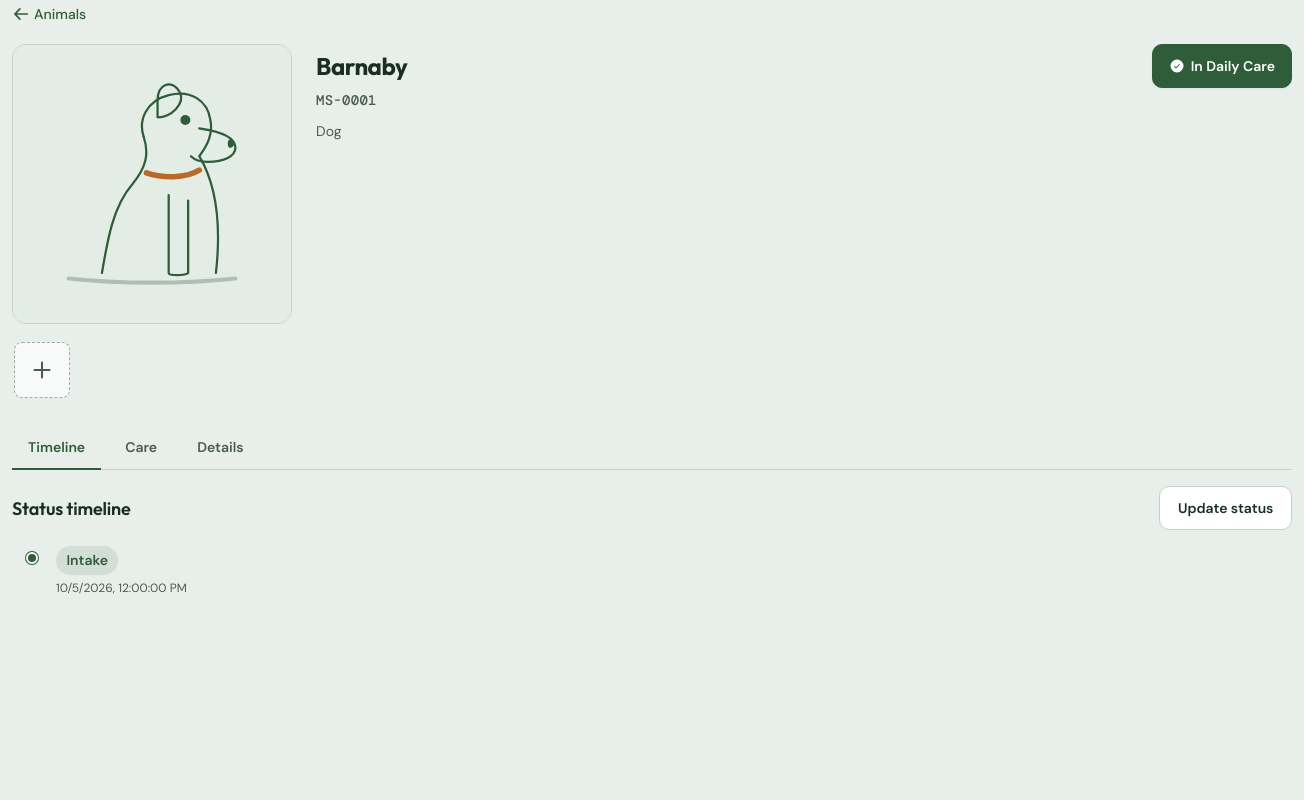
Test: Word-based Daily Care button and details editing › renders "In Daily Care" when already on checklist and toggles when clicked
Click the button with aria-label "Remove from Daily Care" at x=1222, y=66, box [1152,44,1292,88]
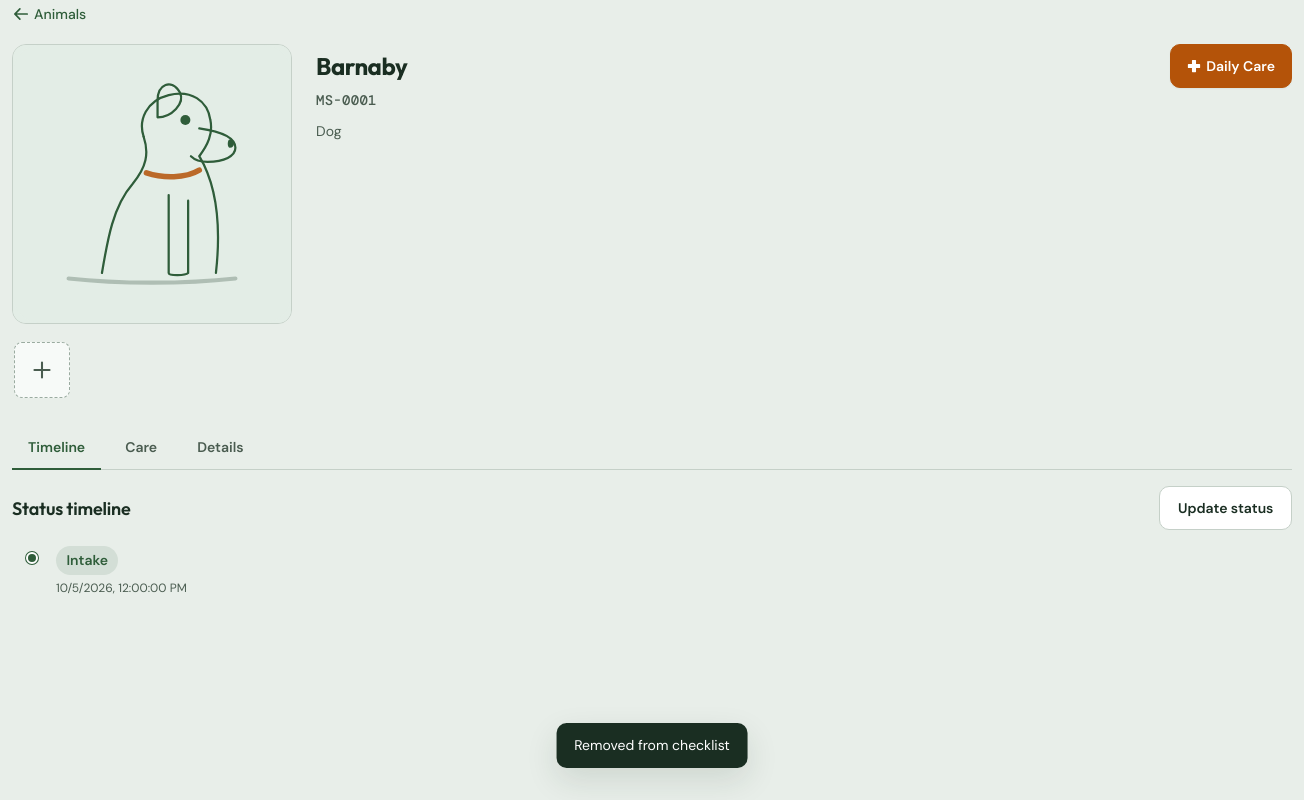
Expected: the icon in the row of "Barnaby" is shown, [1187,59,1201,73]
Now the button with aria-label "Add to Daily Care" reads "Daily Care", box [1170,44,1292,88]
